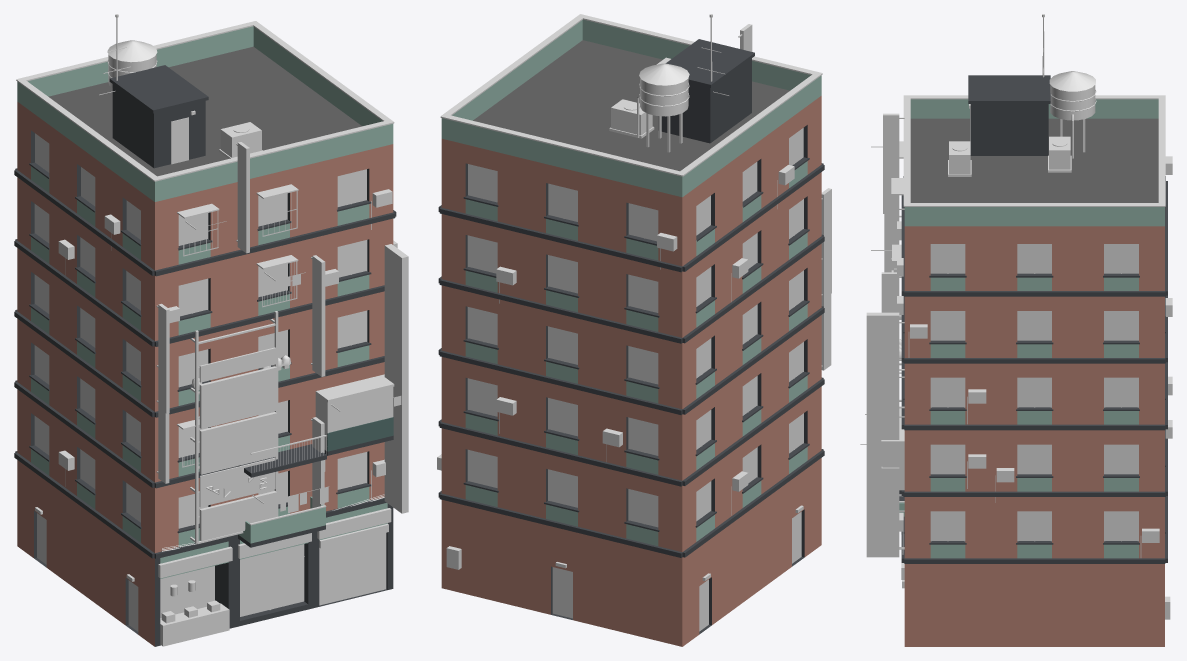
File: LB_NM_Shophouse_A.fbx
The picture shows the model from 3 angles, left to right: view 1: azimuth 30°, elevation 25°; view 2: azimuth 150°, elevation 25°; view 3: azimuth 270°, elevation 25°; orthographic projection. The views are drawn at different scales.
Parts seen in each view (by area): view 1: LB_NM_Shophouse_A_LOD0; view 2: LB_NM_Shophouse_A_LOD0; view 3: LB_NM_Shophouse_A_LOD0.
Part boxes in pixels (<box>): LB_NM_Shophouse_A_LOD0: <box>14,14,408,646</box>; LB_NM_Shophouse_A_LOD0: <box>437,14,831,646</box>; LB_NM_Shophouse_A_LOD0: <box>860,14,1172,646</box>.
Size of what is drawn, in the model's own units: 12.73 by 27.42 by 14.41.
